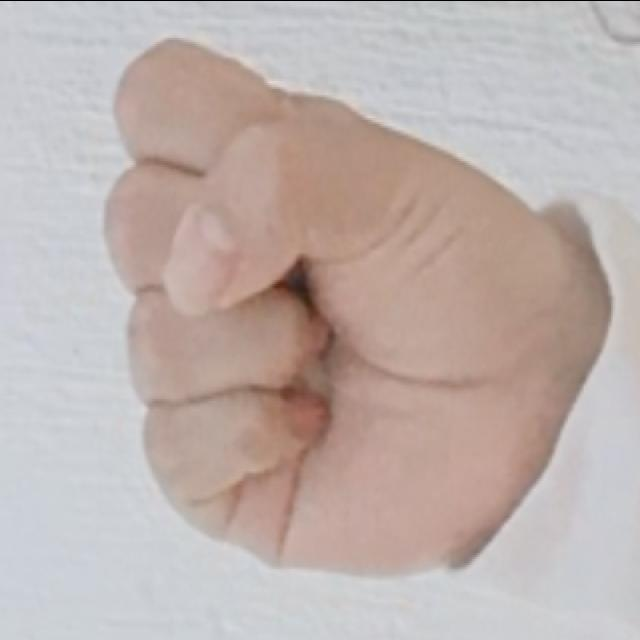S: (97, 34, 592, 584)
